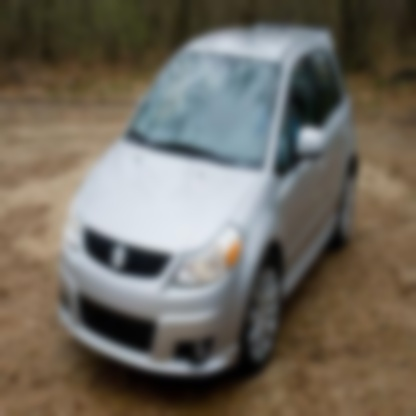Vehicle: (57, 23, 362, 386)
